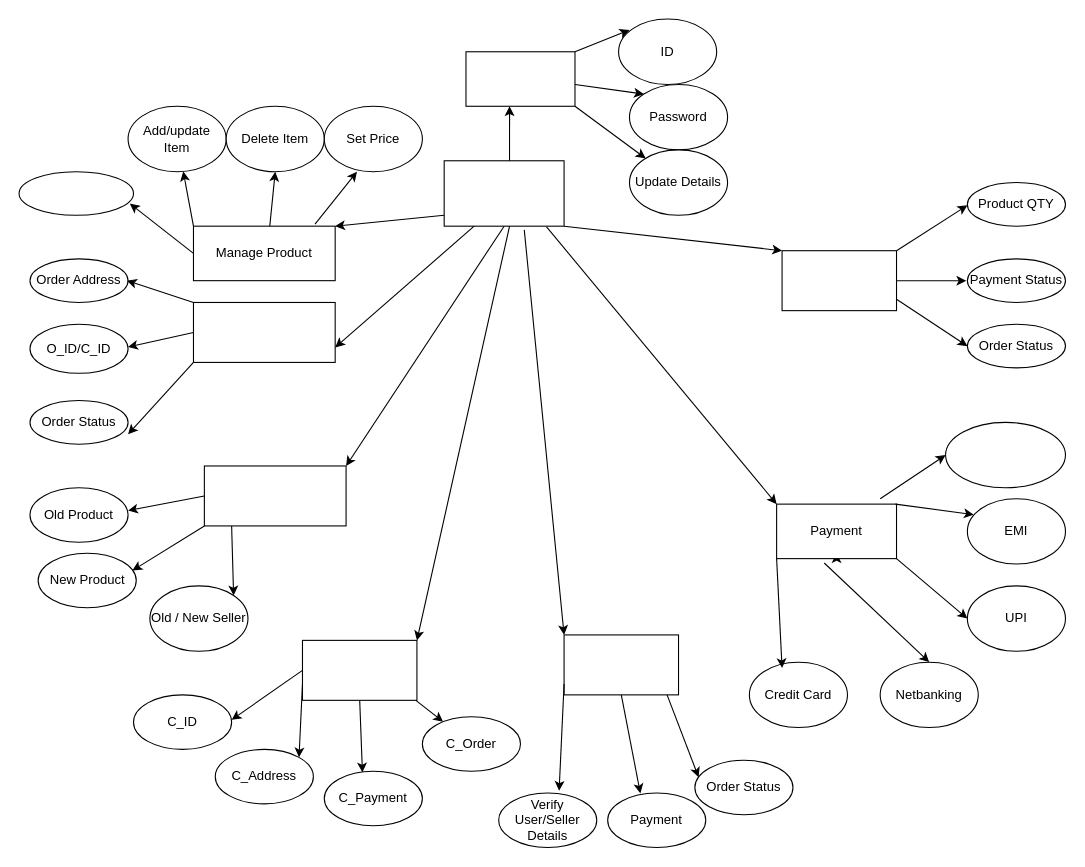
The diagram is 1085 pixels wide and 867 high, and some of its shapes have lost their labels. Here are the shapes that lost their labels. From the top down, the centre of each, then its label:
At [520,78]: "Login".
At [76,193]: "Manage Category".
At [503,193]: "Admin".
At [839,280]: "Manage Report".
At [263,331]: "Manage Order".
At [1004,454]: "Payment Refund".
At [274,495]: "Update Info/Product".
At [359,669]: "Manage Client".
At [621,664]: "Manage User/Seller Details".
